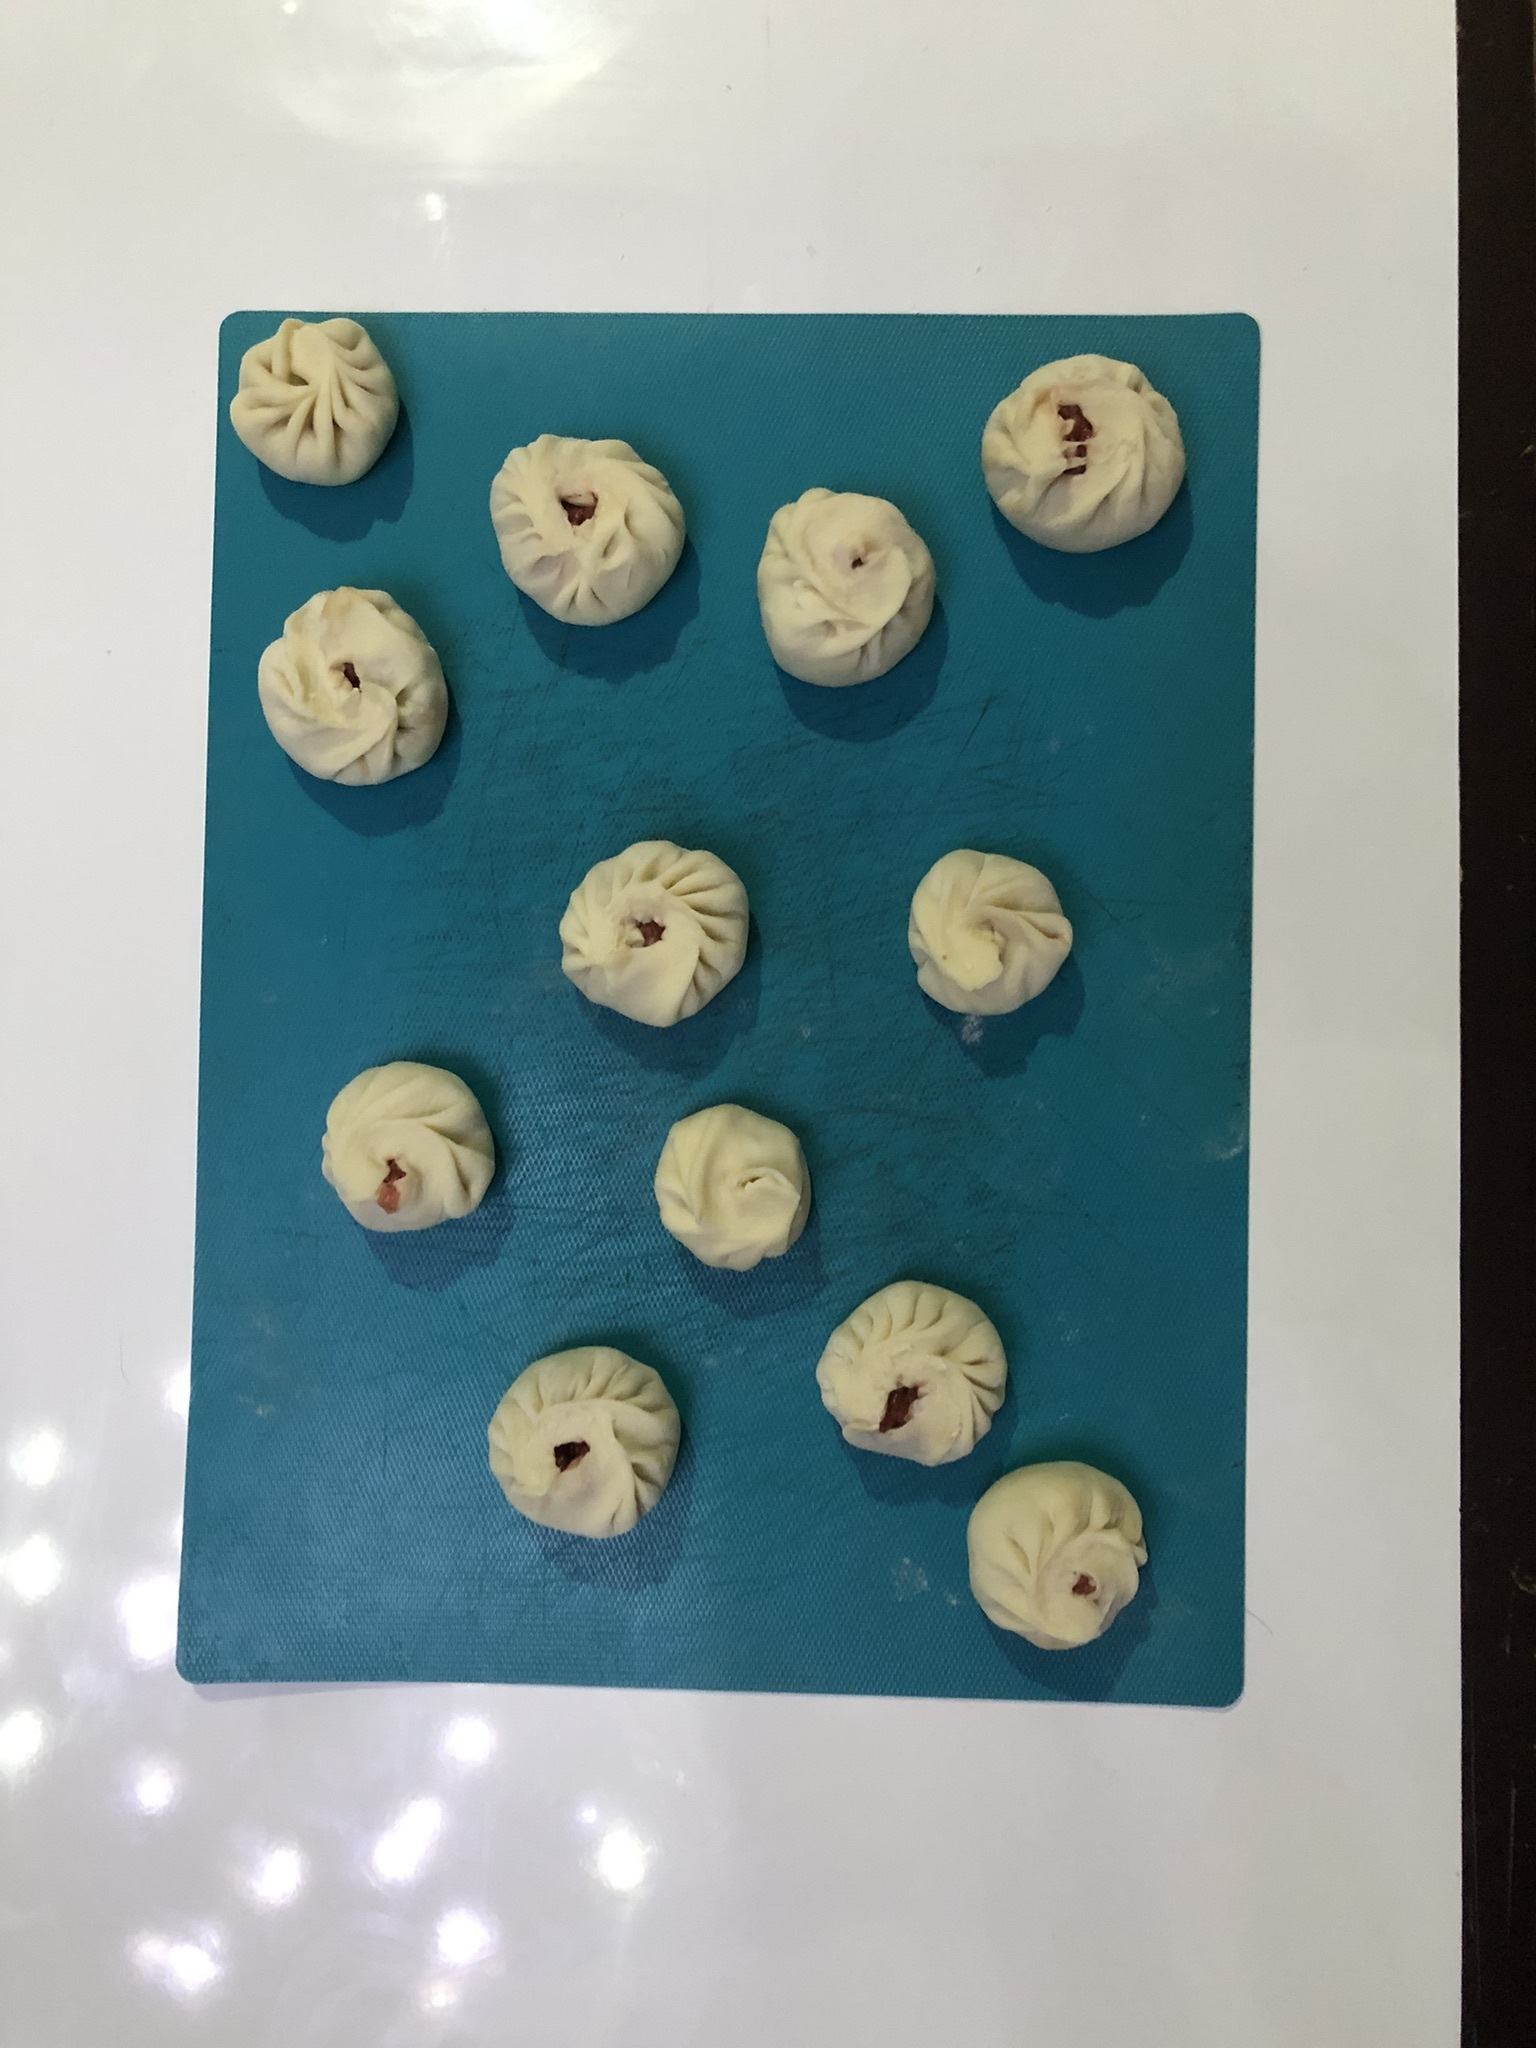buuz: (971, 343, 1196, 566), (476, 1330, 697, 1550), (248, 581, 470, 795), (482, 419, 697, 634), (549, 829, 768, 1039), (808, 1271, 1016, 1476), (960, 1455, 1162, 1664), (749, 481, 944, 693), (310, 1047, 508, 1243), (900, 840, 1084, 1026), (224, 314, 411, 493), (645, 1097, 823, 1285)
